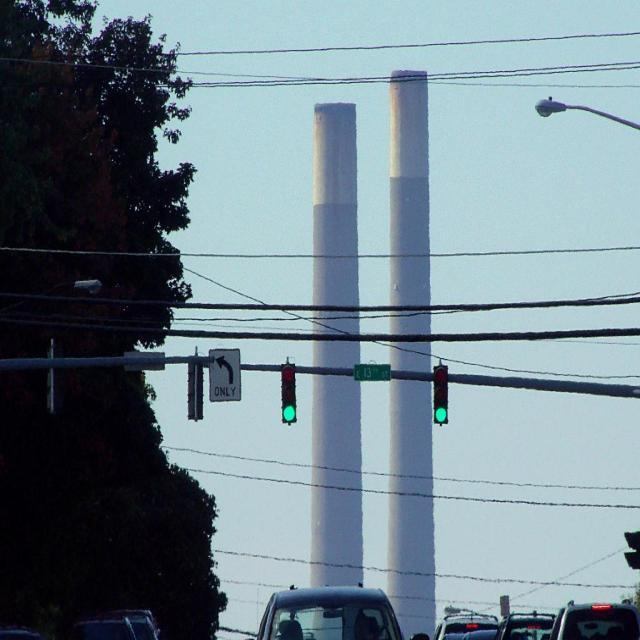traffic light: (281, 364, 297, 423), (433, 365, 449, 424)
